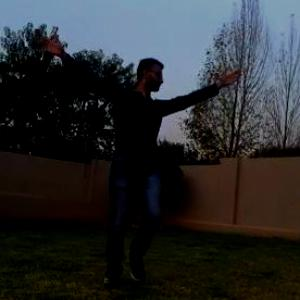takeoff: (37, 28, 249, 292)
